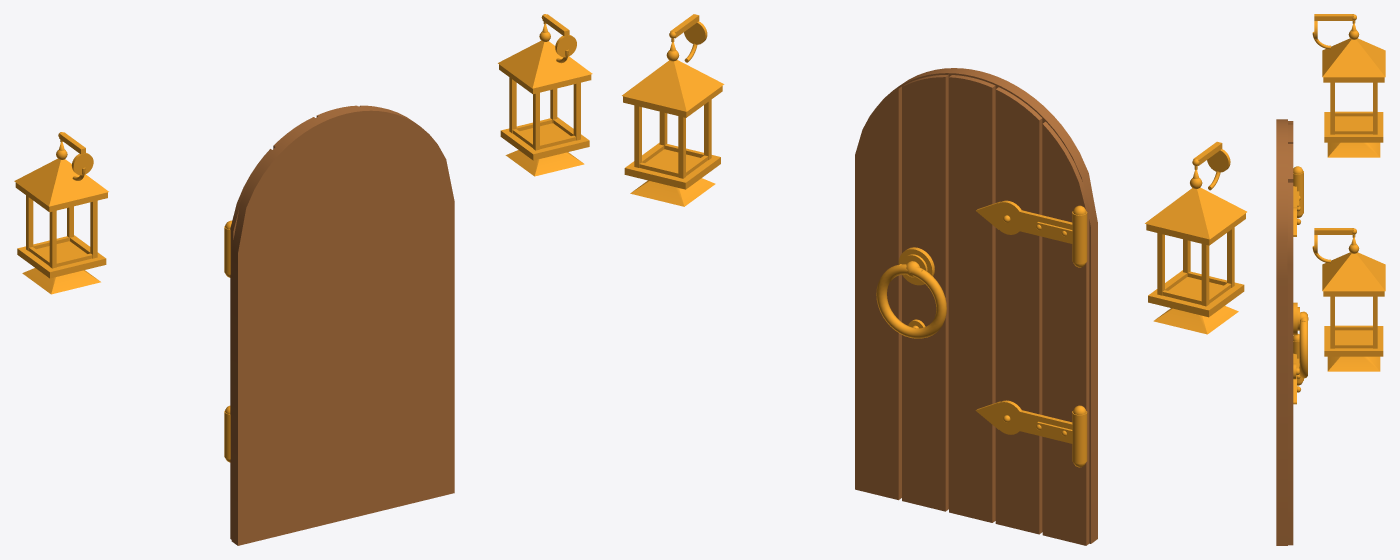
The model's file is HaloShop_Flower_ornaments.glb.
3 views of the same model, side by side, from view 1: azimuth 30°, elevation 25°; view 2: azimuth 150°, elevation 25°; view 3: azimuth 270°, elevation 25° (orthographic). The views are drawn at different scales.
Visible parts, largest first — view 1: Orn_HaloShop_Flower_Leaf, Orn_HaloShop_Flower_Lantern0, Orn_HaloShop_Flower_Lantern1; view 2: Orn_HaloShop_Flower_Leaf, Orn_HaloShop_Flower_Lantern0, Orn_HaloShop_Flower_Lantern1, Orn_HaloShop_Flower_Hinge0, Orn_HaloShop_Flower_Hinge1, Orn_HaloShop_Flower_Knocker; view 3: Orn_HaloShop_Flower_Leaf, Orn_HaloShop_Flower_Lantern1, Orn_HaloShop_Flower_Lantern0, Orn_HaloShop_Flower_Knocker, Orn_HaloShop_Flower_Hinge1, Orn_HaloShop_Flower_Hinge0.
Boxes of the visible parts, <box> form: Orn_HaloShop_Flower_Leaf: <box>230,105,454,545</box>; Orn_HaloShop_Flower_Lantern0: <box>14,132,108,294</box>; Orn_HaloShop_Flower_Lantern1: <box>498,14,592,176</box>; Orn_HaloShop_Flower_Leaf: <box>855,68,1097,545</box>; Orn_HaloShop_Flower_Lantern0: <box>1145,141,1246,334</box>; Orn_HaloShop_Flower_Lantern1: <box>622,14,724,206</box>; Orn_HaloShop_Flower_Hinge0: <box>975,400,1087,467</box>; Orn_HaloShop_Flower_Hinge1: <box>976,200,1087,267</box>; Orn_HaloShop_Flower_Knocker: <box>876,247,946,338</box>; Orn_HaloShop_Flower_Leaf: <box>1276,119,1293,545</box>; Orn_HaloShop_Flower_Lantern1: <box>1312,228,1385,371</box>; Orn_HaloShop_Flower_Lantern0: <box>1312,14,1385,157</box>; Orn_HaloShop_Flower_Knocker: <box>1293,302,1308,379</box>; Orn_HaloShop_Flower_Hinge1: <box>1293,166,1303,236</box>; Orn_HaloShop_Flower_Hinge0: <box>1293,334,1303,404</box>.
Size of the model in its own units: 10.8 by 7.88 by 2.07.
